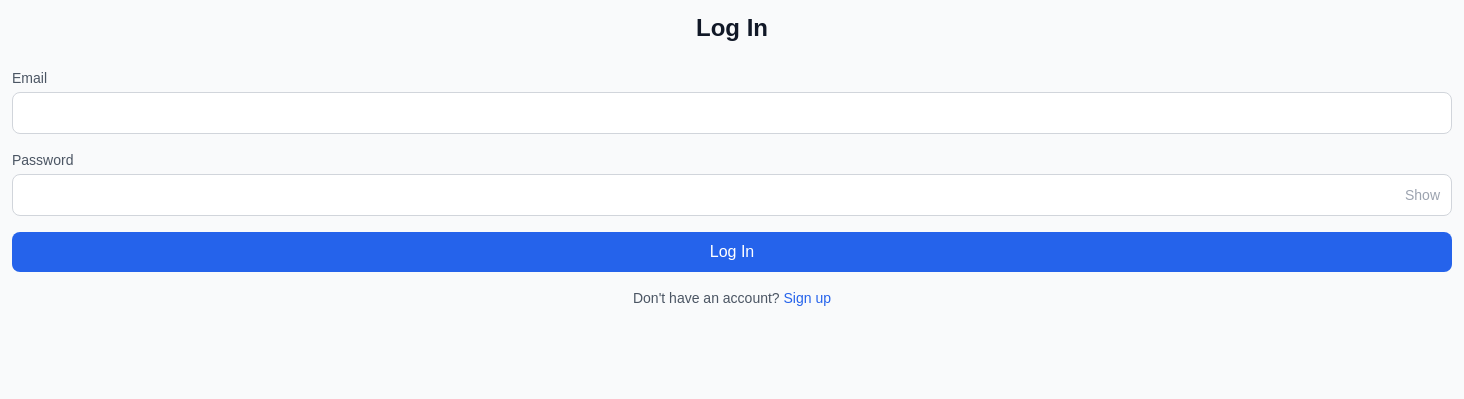
Test: Login page › shows a clear message for wrong credentials and does not sign the user in
Step 1. Type "claimant@demo.com" into the field labelled "Email" → (732, 113), box x1=12 y1=92 x2=1452 y2=134
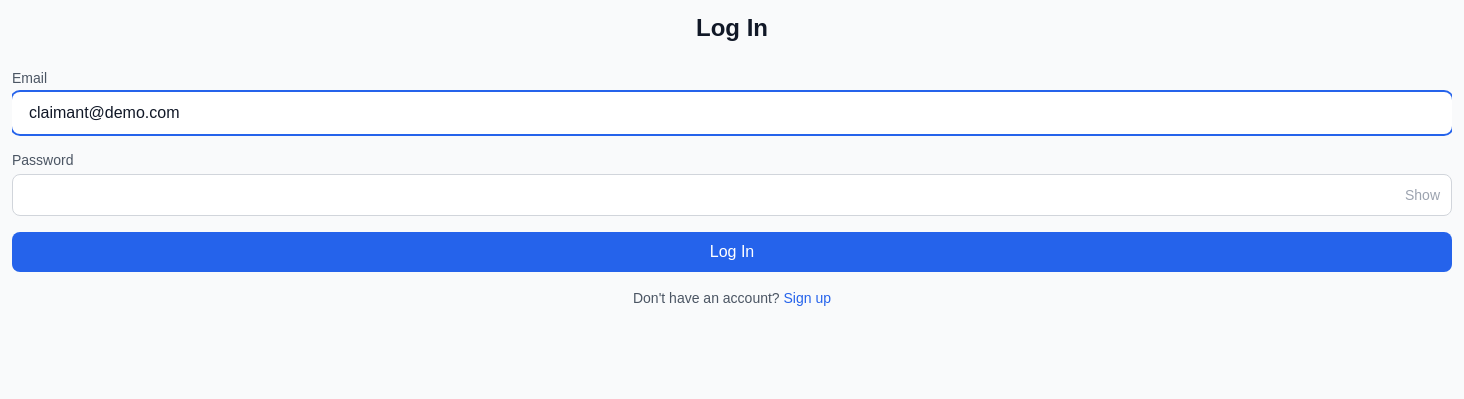
Step 2. Type "wrong-password" into the password field labelled "Password" → (732, 195), box x1=12 y1=174 x2=1452 y2=216
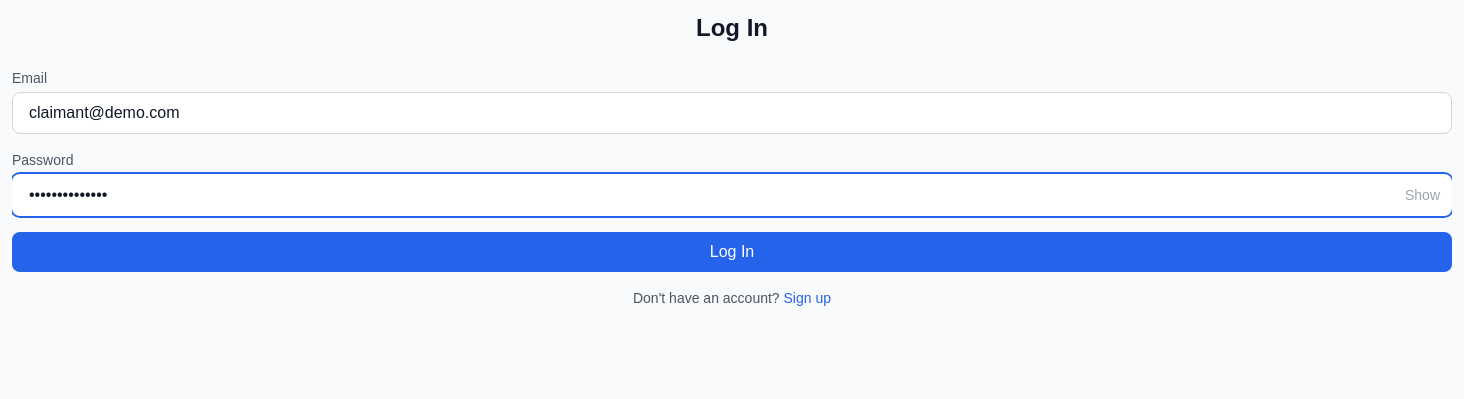
Step 3. Click the button "Log In" → (732, 252), box x1=12 y1=232 x2=1452 y2=272
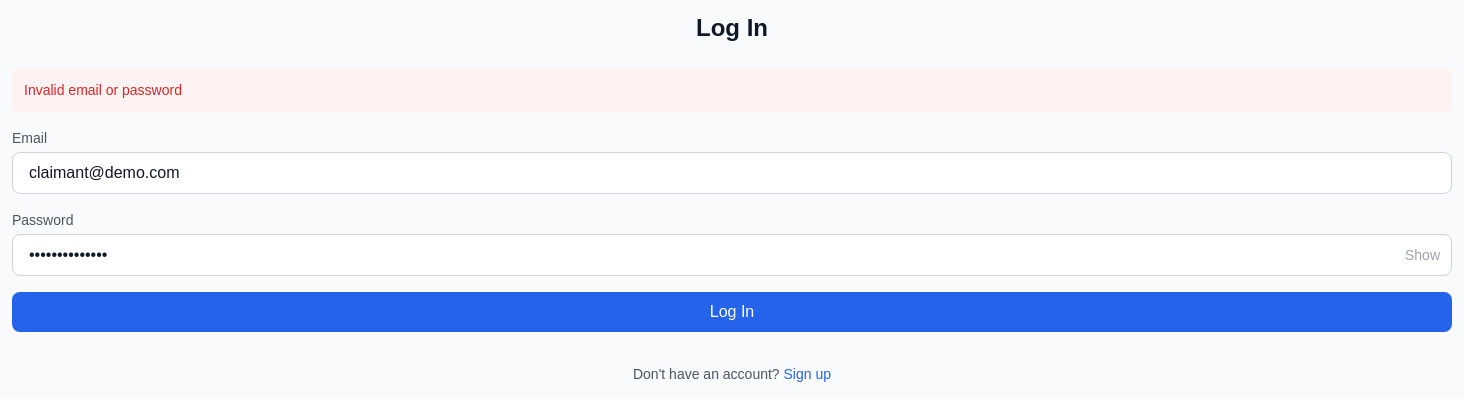
Expected: the message reads "Invalid email or password", x1=24 y1=82 x2=182 y2=98
